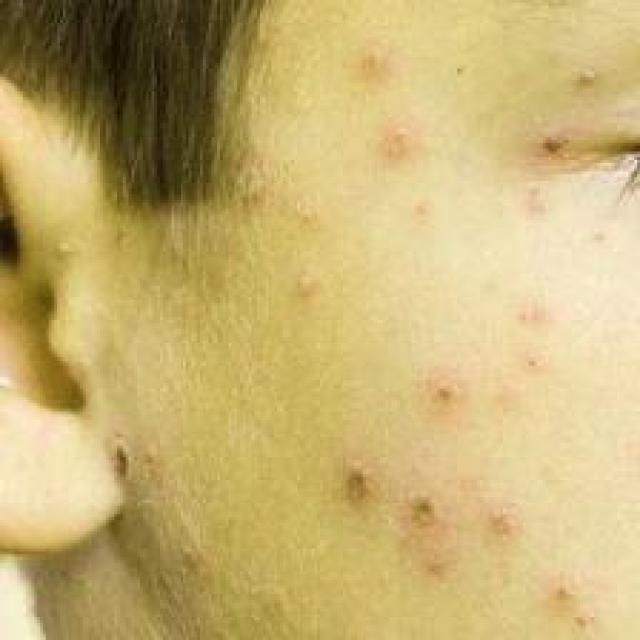others: (225, 20, 640, 640)
